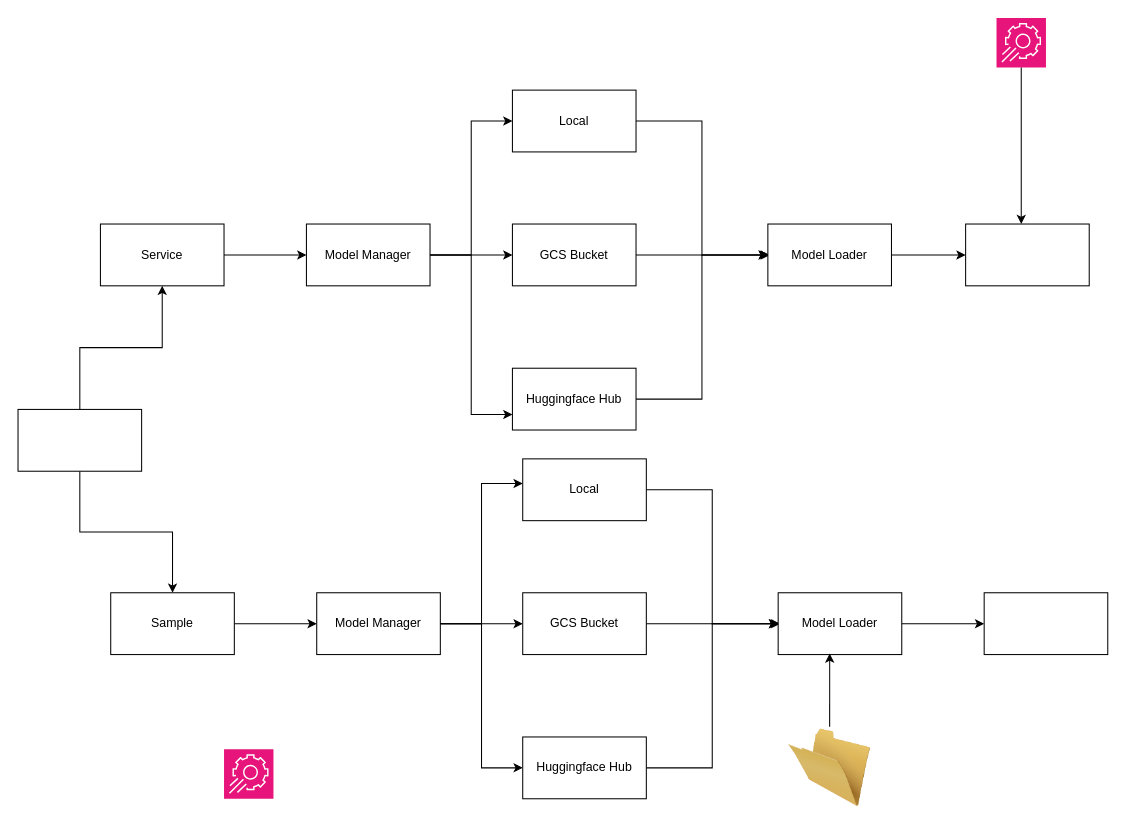
Image size: 1126x827. Some labels were removed from this diagram. The shapes that lost their labels are listed below. From the top down, each one's centre as x and y in pixels, then its label:
[1027,254]: FastAPI
[79,439]: Command Line Prompt
[1045,623]: Print Output
